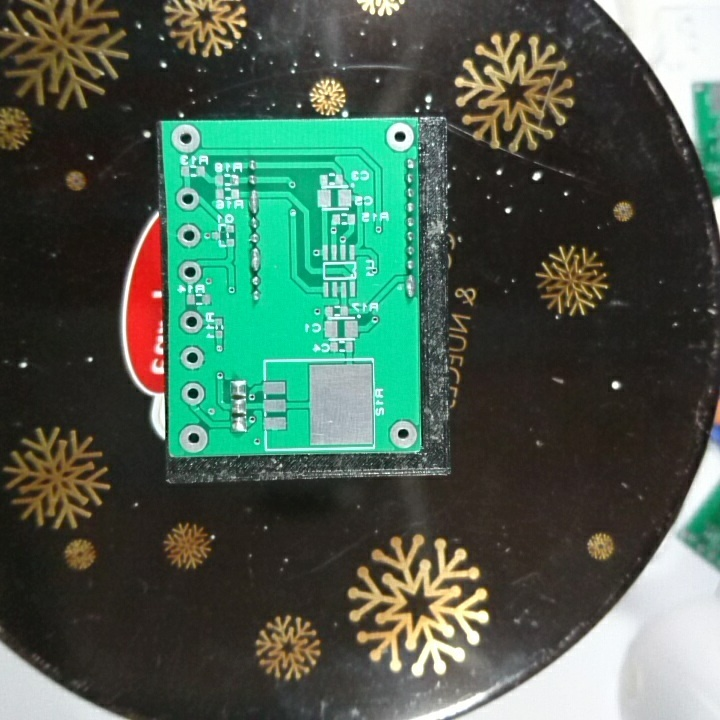F: (383, 122, 416, 154), (169, 123, 202, 155), (387, 418, 419, 451), (178, 422, 209, 455), (177, 308, 205, 336), (177, 344, 205, 372), (178, 380, 207, 407), (174, 223, 202, 249), (173, 186, 200, 212), (176, 259, 202, 286)
P: (246, 187, 262, 215), (248, 245, 263, 274), (403, 275, 417, 301)
